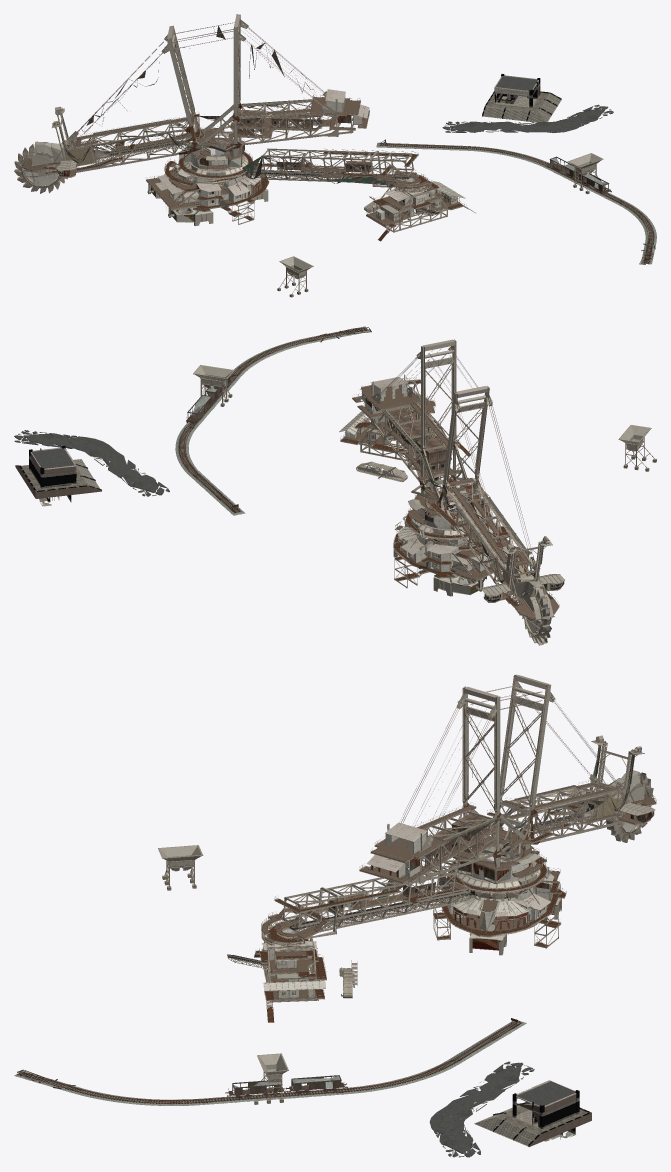
Rendered from excavator_1-map.glb.
3 views of the same model, one above another, from view 1: azimuth 30°, elevation 25°; view 2: azimuth 150°, elevation 25°; view 3: azimuth 270°, elevation 25° (orthographic). The views are drawn at different scales.
Parts seen in each view (by area): view 1: conveyor_bridge_LOD0, corridor_train_tunnel_entrance_a_LOD0, conveyor_unit_LOD0, bucket_excavator_LOD0, train_track_3x3_end, excavator_cabin_b_LOD0, train_wagon_b_LOD0, road_nopavement_27x15_LOD0; view 2: conveyor_bridge_LOD0, corridor_train_tunnel_entrance_a_LOD0, train_track_3x3_end, conveyor_unit_LOD0, bucket_excavator_LOD0, excavator_cabin_b_LOD0, road_nopavement_27x15_LOD0, train_wagon_b_LOD0; view 3: conveyor_bridge_LOD0, corridor_train_tunnel_entrance_a_LOD0, conveyor_unit_LOD0, bucket_excavator_LOD0, train_track_3x3_end, excavator_cabin_b_LOD0, train_wagon_b_LOD0, road_nopavement_27x15_LOD0.
Boxes of the visible parts, <box> form: conveyor_bridge_LOD0: <box>14,14,603,294</box>; corridor_train_tunnel_entrance_a_LOD0: <box>442,74,613,132</box>; conveyor_unit_LOD0: <box>25,96,465,220</box>; bucket_excavator_LOD0: <box>57,89,439,221</box>; train_track_3x3_end: <box>376,139,656,264</box>; excavator_cabin_b_LOD0: <box>237,109,371,172</box>; train_wagon_b_LOD0: <box>547,156,611,193</box>; road_nopavement_27x15_LOD0: <box>443,106,613,132</box>; conveyor_bridge_LOD0: <box>42,339,655,645</box>; corridor_train_tunnel_entrance_a_LOD0: <box>14,430,169,506</box>; train_track_3x3_end: <box>175,326,371,515</box>; conveyor_unit_LOD0: <box>339,383,542,633</box>; bucket_excavator_LOD0: <box>359,377,563,601</box>; excavator_cabin_b_LOD0: <box>387,411,446,482</box>; road_nopavement_27x15_LOD0: <box>14,430,166,496</box>; train_wagon_b_LOD0: <box>186,377,231,423</box>; conveyor_bridge_LOD0: <box>158,674,656,1139</box>; corridor_train_tunnel_entrance_a_LOD0: <box>429,1061,591,1157</box>; conveyor_unit_LOD0: <box>227,742,640,997</box>; bucket_excavator_LOD0: <box>227,742,653,965</box>; train_track_3x3_end: <box>14,1018,526,1105</box>; excavator_cabin_b_LOD0: <box>328,813,489,912</box>; train_wagon_b_LOD0: <box>225,1075,347,1098</box>; road_nopavement_27x15_LOD0: <box>431,1063,533,1157</box>.
Size of the model in its own units: 215 by 74.19 by 171.
Materials: 38 (38 with a texture image).
